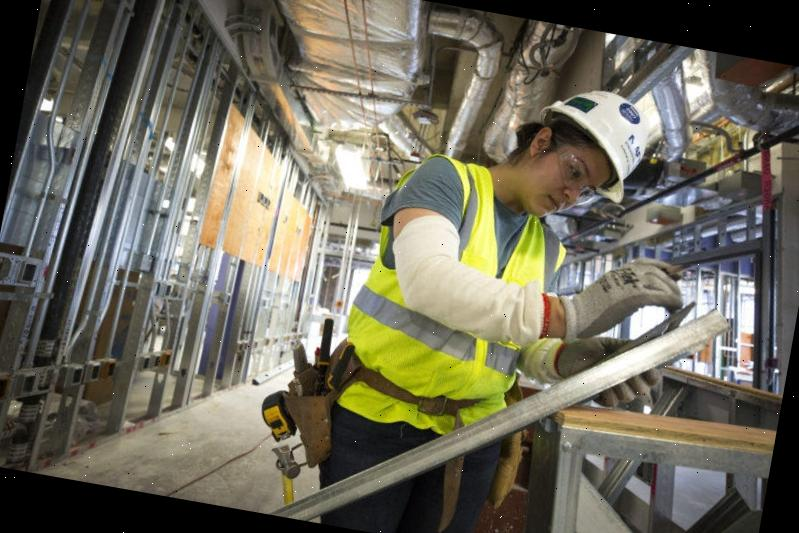helmet: (524, 75, 654, 210)
wear: (338, 150, 560, 442)
